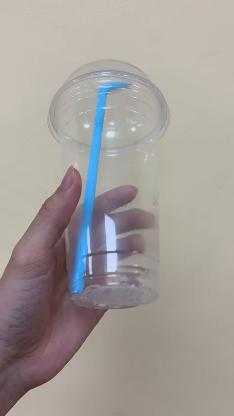Plastic Cup: (47, 58, 174, 310)
